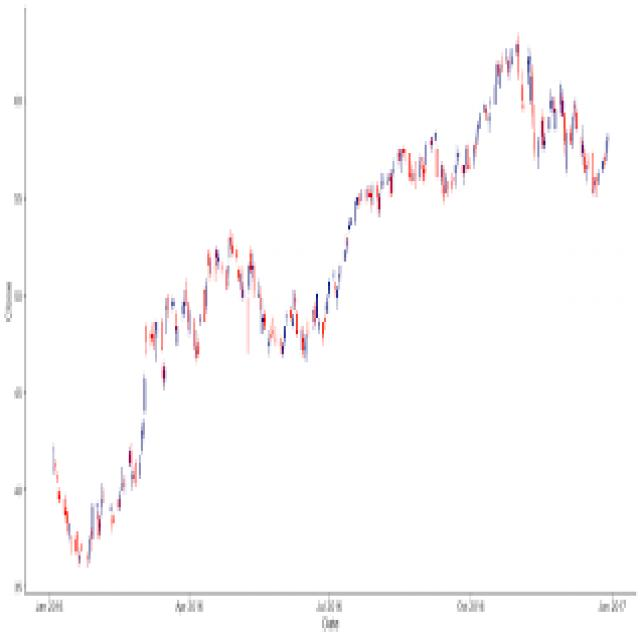fundo_duplo: (234, 205, 346, 391), (52, 476, 115, 581)
